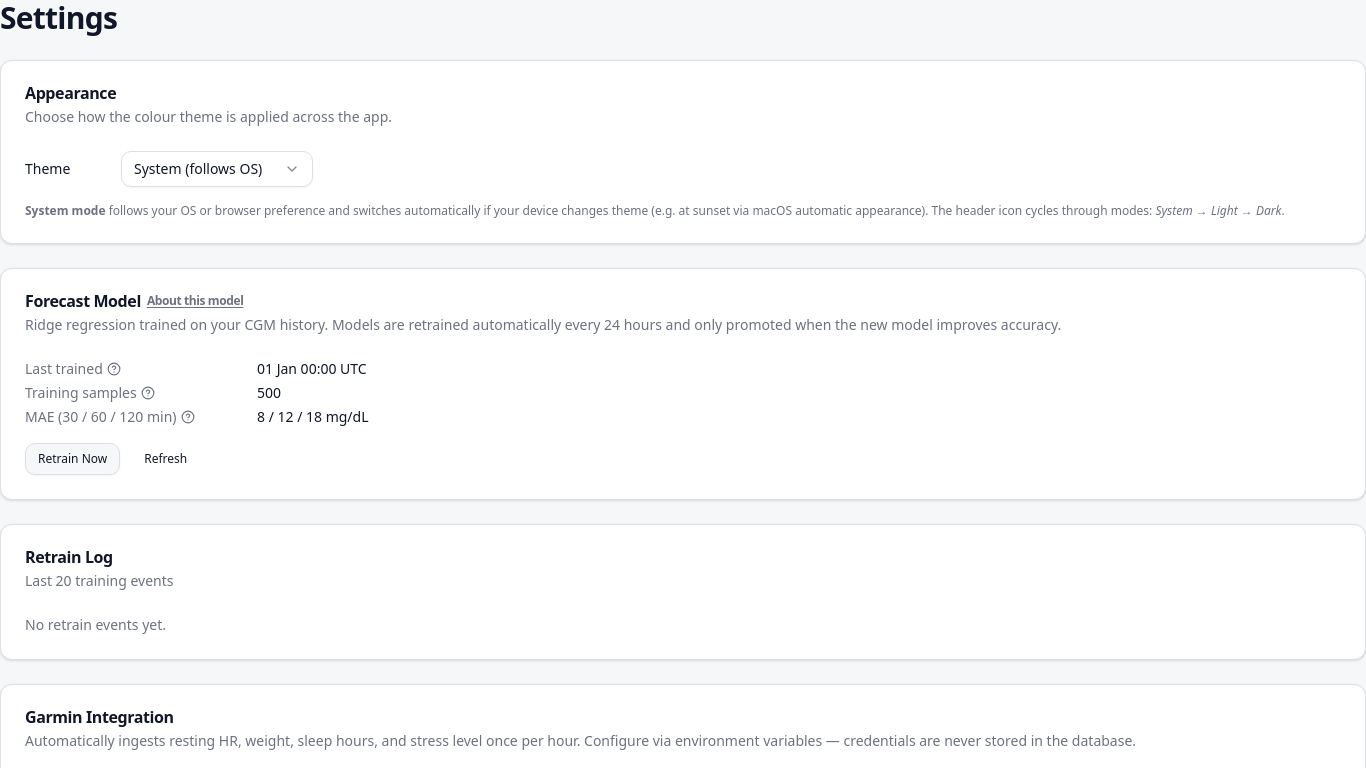
Test case: Settings — help elements (#85) › opens MAE popover with explanation
Click the button named "help: mean absolute error" at (188, 417), box [180,410,194,424]
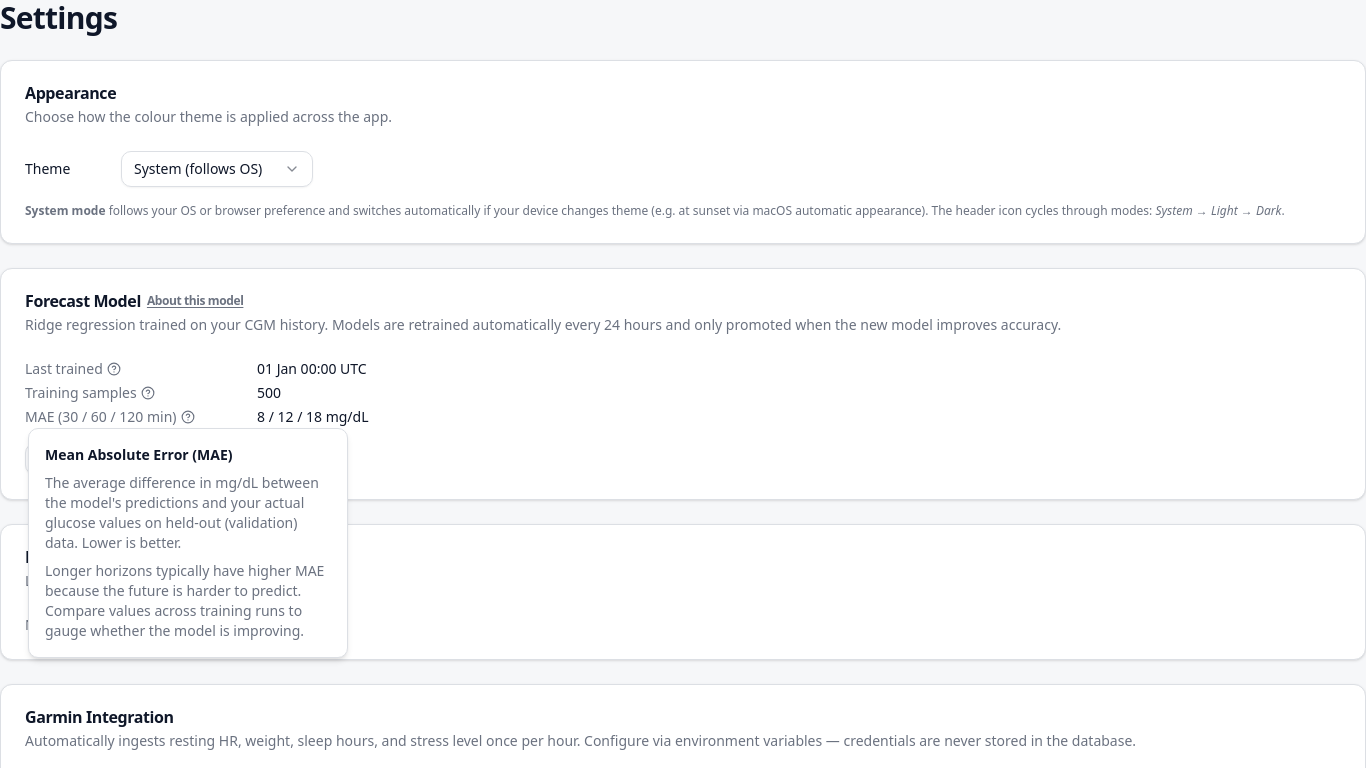
Expected: the text "average difference in mg/dL" is shown, [45,473,319,552]
